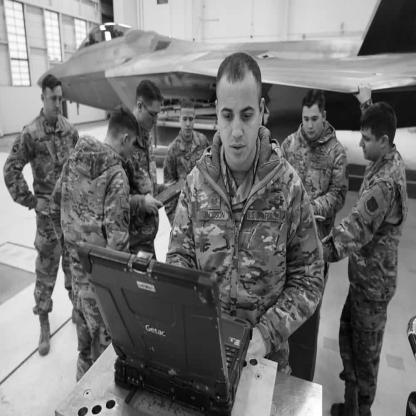F22: (38, 2, 416, 169)
